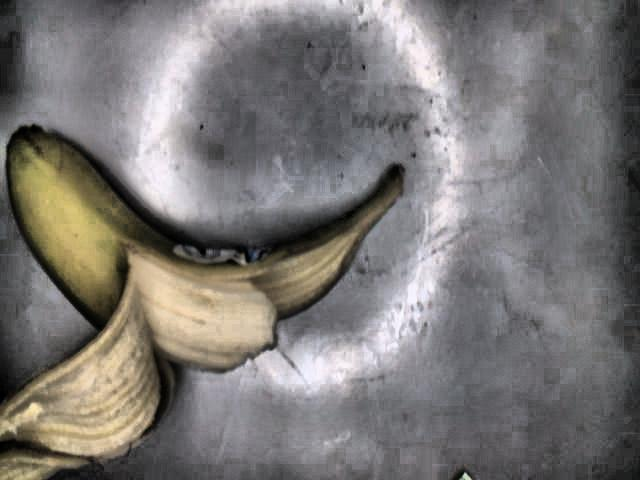Almennt: (0, 128, 402, 480)
